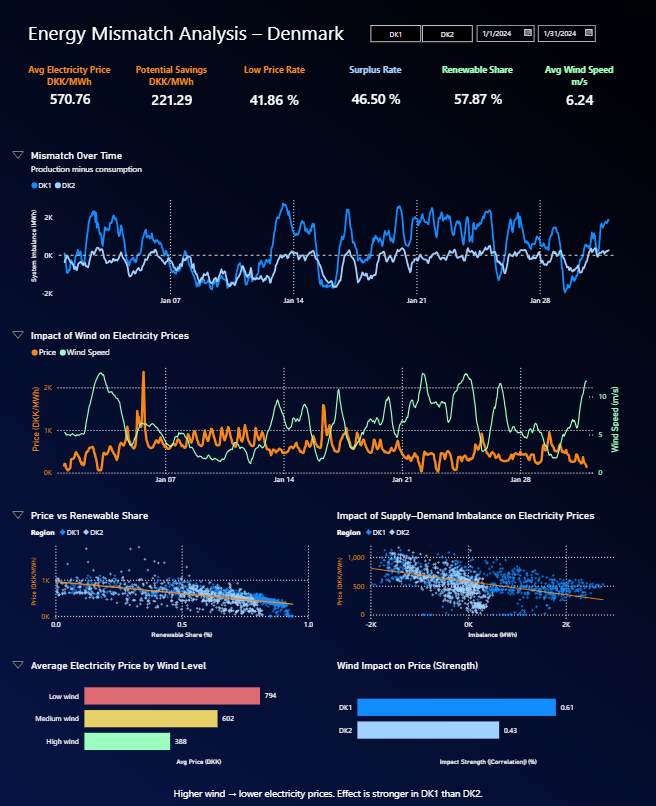

This screenshot's page, from the dashboard's own definition file:
{"tool":"powerbi","page":{"name":"Page 1","canvas":[1100,1350],"ordinal":0},"visuals":[{"type":"textbox","title":"Conclusion","box":[0,1309,1100,33],"z":0},{"type":"clusteredBarChart","title":"Wind Impact on Price (Strength)","fields":{"Category":["dashboard_energy_data.PriceArea"],"Y":["dashboard_energy_data.Wind Impact (Positive)"]},"box":[560,1100,480,182.5],"z":1000},{"type":"cardVisual","title":"Avg Electricity Price  (DKK/MWh)","fields":{"Data":["Avg(production_consumption_2024-01-01_2024-02-01.SpotPrice)"]},"box":[50,120,140,100],"z":2000,"group":"g1"},{"type":"clusteredBarChart","title":"Average Electricity Price by Wind Level","fields":{"Category":["dashboard_energy_data.Wind Bucket"],"Y":["dashboard_energy_data.Avg Price"]},"box":[50,1100,480,182.5],"z":2000},{"type":"image","title":"+ ikon graf 4","box":[23,1100,20,20],"z":2500},{"type":"cardVisual","title":"Renewable Share","fields":{"Data":["production_consumption_2024-01-01_2024-02-01.AvgRenewableShare"]},"box":[730,120,140,100],"z":3000,"group":"g1"},{"type":"scatterChart","title":"Impact of Supply–Demand Imbalance on Electricity Prices","fields":{"X":["dashboard_energy_data.mismatch"],"Y":["dashboard_energy_data.SpotPriceDKK"],"Series":["dashboard_energy_data.PriceArea"]},"box":[560,850,480,220],"z":3000},{"type":"slicer","title":"Region","fields":{"Values":["production_consumption_2024-01-01_2024-02-01.PriceArea"]},"box":[594.4,36.1,220,42.4],"z":4000,"group":"g2"},{"type":"cardVisual","title":"Surplus Rate","fields":{"Data":["production_consumption_2024-01-01_2024-02-01.SurplusPct"]},"box":[560,120,140,100],"z":4000,"group":"g1"},{"type":"scatterChart","title":"Price vs Renewable Share","fields":{"X":["dashboard_energy_data.renewable_share"],"Y":["dashboard_energy_data.SpotPriceDKK"],"Series":["dashboard_energy_data.PriceArea"]},"box":[50,850,480,220],"z":4000},{"type":"image","title":"+ ikon graf 3","box":[23,850,20,20],"z":4500},{"type":"cardVisual","title":"Low Price Rate","fields":{"Data":["production_consumption_2024-01-01_2024-02-01.LowPricePct"]},"box":[390,120,142,100],"z":5000,"group":"g1"},{"type":"lineChart","title":"Impact of Wind on Electricity Prices","fields":{"Y":["Avg(dashboard_energy_data.SpotPriceDKK)"],"Y2":["Avg(dashboard_energy_data.wind_speed)"],"Category":["dashboard_energy_data.HourUTC"]},"box":[50,550,990,270],"z":5000},{"type":"image","title":"+ ikon graf 2","box":[23,550,20,20],"z":5500},{"type":"cardVisual","title":"Potential Savings (DKK/MWh)","fields":{"Data":["production_consumption_2024-01-01_2024-02-01.SavingsPotential"]},"box":[220,120,140,100],"z":6000,"group":"g1"},{"type":"lineChart","title":"Mismatch Over Time","fields":{"Series":["production_consumption_2024-01-01_2024-02-01.PriceArea"],"Category":["production_consumption_2024-01-01_2024-02-01.HourUTC"],"Y":["Avg(production_consumption_2024-01-01_2024-02-01.mismatch)"]},"box":[50,250,990,270],"z":6000},{"type":"slicer","title":"Date Range","fields":{"Values":["production_consumption_2024-01-01_2024-02-01.HourUTC"]},"box":[783.9,33.3,220,45],"z":7000,"group":"g2"},{"type":"cardVisual","title":"Avg Wind Speed (m/s)","fields":{"Data":["Avg(dashboard_energy_data.wind_speed)"]},"box":[900,120,140,100],"z":7000,"group":"g1"},{"type":"image","title":"+ ikon graf 1","box":[23,250,20,20],"z":7000},{"type":"group","id":"g1","title":"KPI'er","box":[34,102,1021,118],"z":8000},{"type":"group","id":"g2","title":"Filters","box":[594.4,33.3,410,44.4],"z":9000},{"type":"textbox","title":"Energy Mismatch","box":[45.6,27.8,596.7,55.6],"z":10000},{"type":"textbox","box":[34,102,171,52],"z":14000,"group":"g1"},{"type":"textbox","box":[714,102,171,52],"z":15000,"group":"g1"},{"type":"textbox","box":[544,102,171,52],"z":16000,"group":"g1"},{"type":"textbox","box":[375,102,171,52],"z":17000,"group":"g1"},{"type":"textbox","box":[204,102,171,52],"z":18000,"group":"g1"},{"type":"textbox","box":[884,102,171,52],"z":19000,"group":"g1"}]}

Visuals, with their boxes in screenshot pixels (x1, y1, x2, y2), scaled from the page's 1100x1350 canvas onto the 656x806 screenshot:
"Conclusion" textbox: (x1=0, y1=782, x2=655, y2=801)
"Wind Impact on Price (Strength)" clusteredBarChart: (x1=334, y1=657, x2=620, y2=766)
"Avg Electricity Price  (DKK/MWh)" cardVisual: (x1=30, y1=72, x2=113, y2=131)
"Average Electricity Price by Wind Level" clusteredBarChart: (x1=30, y1=657, x2=316, y2=766)
"+ ikon graf 4" image: (x1=14, y1=657, x2=26, y2=669)
"Renewable Share" cardVisual: (x1=435, y1=72, x2=519, y2=131)
"Impact of Supply–Demand Imbalance on Electricity Prices" scatterChart: (x1=334, y1=507, x2=620, y2=639)
"Region" slicer: (x1=354, y1=22, x2=486, y2=47)
"Surplus Rate" cardVisual: (x1=334, y1=72, x2=417, y2=131)
"Price vs Renewable Share" scatterChart: (x1=30, y1=507, x2=316, y2=639)
"+ ikon graf 3" image: (x1=14, y1=507, x2=26, y2=519)
"Low Price Rate" cardVisual: (x1=233, y1=72, x2=317, y2=131)
"Impact of Wind on Electricity Prices" lineChart: (x1=30, y1=328, x2=620, y2=490)
"+ ikon graf 2" image: (x1=14, y1=328, x2=26, y2=340)
"Potential Savings (DKK/MWh)" cardVisual: (x1=131, y1=72, x2=215, y2=131)
"Mismatch Over Time" lineChart: (x1=30, y1=149, x2=620, y2=310)
"Date Range" slicer: (x1=467, y1=20, x2=599, y2=47)
"Avg Wind Speed (m/s)" cardVisual: (x1=537, y1=72, x2=620, y2=131)
"+ ikon graf 1" image: (x1=14, y1=149, x2=26, y2=161)
"KPI'er" group: (x1=20, y1=61, x2=629, y2=131)
"Filters" group: (x1=354, y1=20, x2=599, y2=46)
"Energy Mismatch" textbox: (x1=27, y1=17, x2=383, y2=50)
textbox: (x1=20, y1=61, x2=122, y2=92)
textbox: (x1=426, y1=61, x2=528, y2=92)
textbox: (x1=324, y1=61, x2=426, y2=92)
textbox: (x1=224, y1=61, x2=326, y2=92)
textbox: (x1=122, y1=61, x2=224, y2=92)
textbox: (x1=527, y1=61, x2=629, y2=92)
